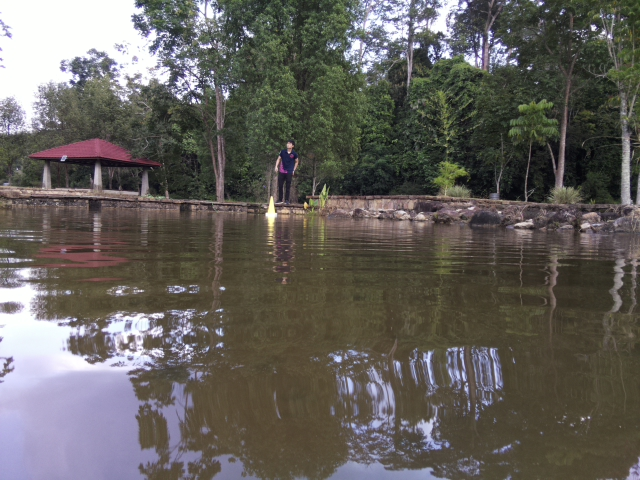checkpoint: (264, 195, 278, 216)
